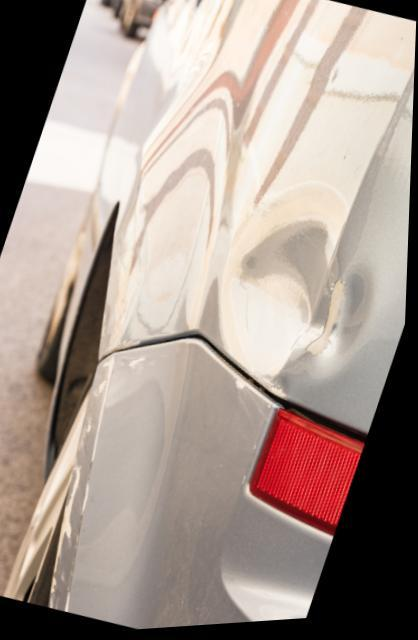dent: (225, 217, 375, 403)
scratch: (51, 356, 149, 614)
